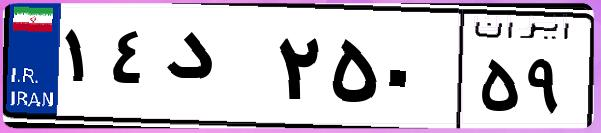0: (385, 28, 445, 110)
1: (57, 26, 110, 100)
2: (270, 28, 330, 110)
4: (110, 28, 158, 98)
5: (330, 28, 385, 110), (475, 38, 525, 113)
9: (525, 38, 570, 115)
د: (158, 20, 270, 120)
